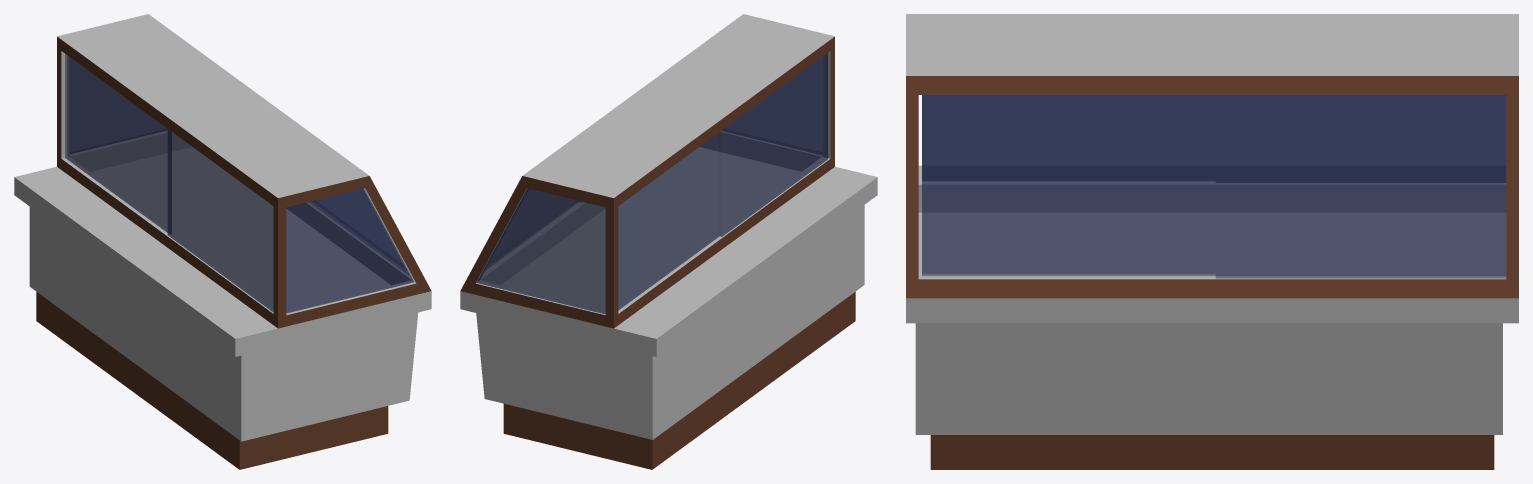
The picture shows the model from 3 angles, left to right: view 1: azimuth 30°, elevation 25°; view 2: azimuth 150°, elevation 25°; view 3: azimuth 270°, elevation 25°; orthographic projection. The views are drawn at different scales.
Visible parts, largest first — view 1: Prilavok_freeze_01, Steklo_01; view 2: Prilavok_freeze_01, Steklo_01; view 3: Prilavok_freeze_01, Steklo_01.
Boxes of the visible parts, x1=… form: Prilavok_freeze_01: x1=14, y1=14, x2=431, y2=469; Steklo_01: x1=65, y1=54, x2=413, y2=313; Prilavok_freeze_01: x1=460, y1=14, x2=877, y2=469; Steklo_01: x1=477, y1=53, x2=827, y2=313; Prilavok_freeze_01: x1=906, y1=14, x2=1518, y2=469; Steklo_01: x1=922, y1=95, x2=1506, y2=278.
Size of the model in its own units: 93.02 by 123 by 182.
